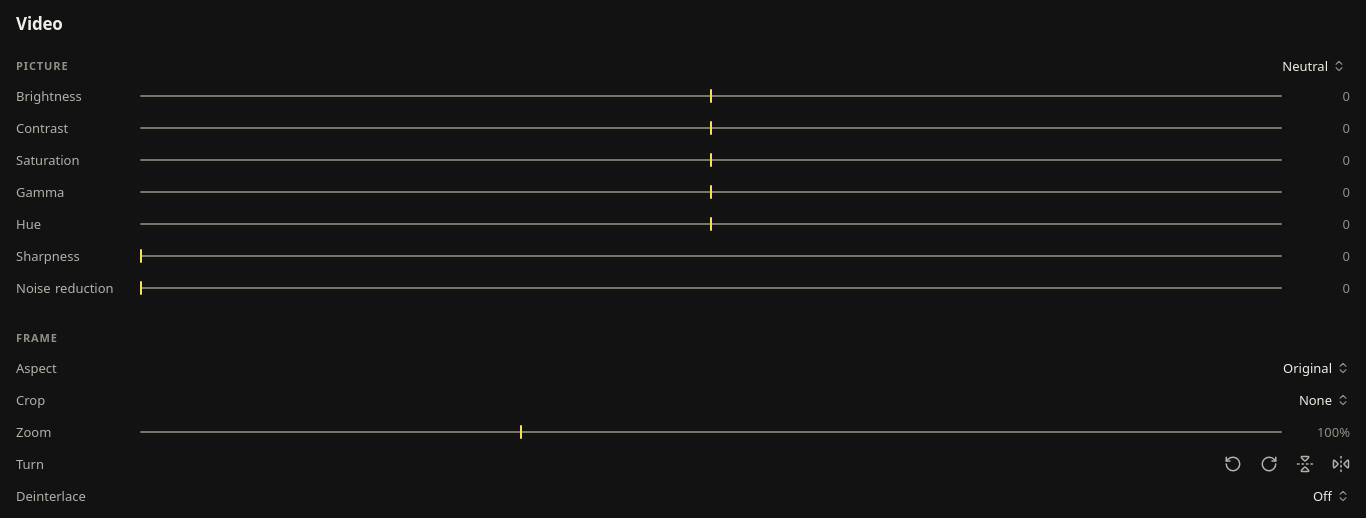
it: the Frame group › turns, mirrors and flips from its buttons
Later steps or results of the test are not shown.
Click the button named "Rotate clockwise" at x=1269, y=464, box top-left (1253, 448), bottom-right (1285, 480)
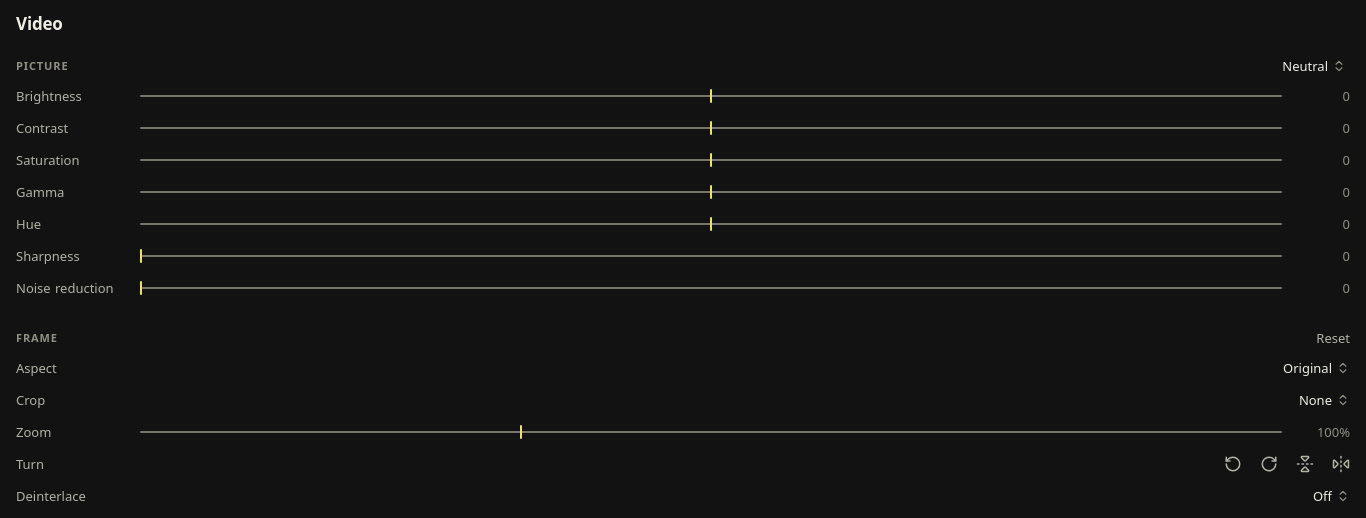
Click the button named "Rotate anticlockwise" at x=1233, y=464, box top-left (1217, 448), bottom-right (1249, 480)
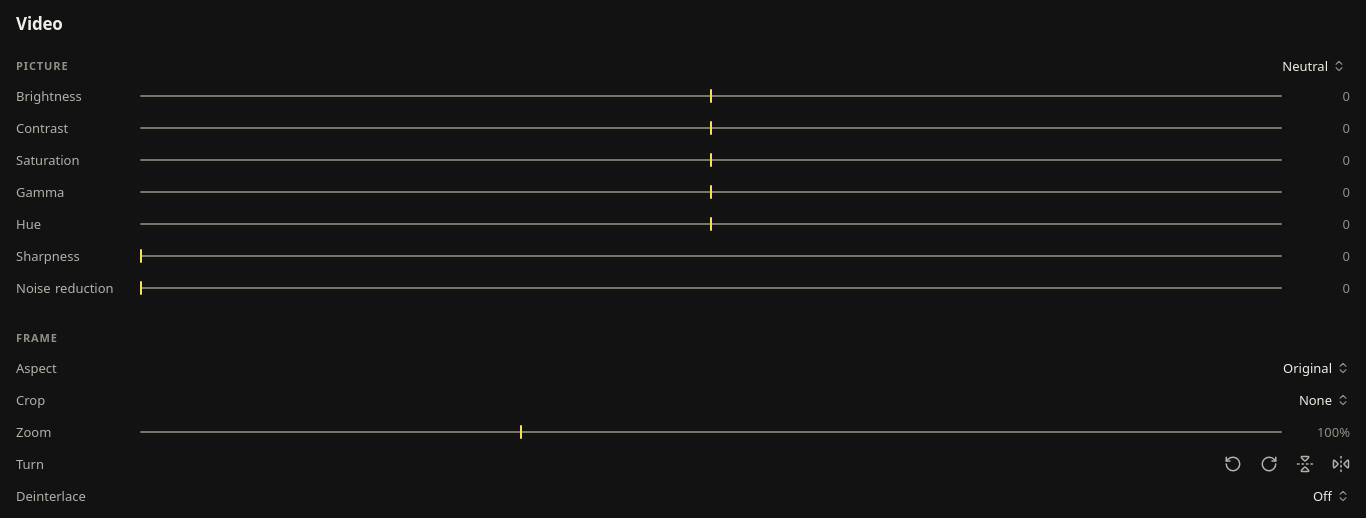
Click the button named "Rotate anticlockwise" at x=1233, y=464, box top-left (1217, 448), bottom-right (1249, 480)
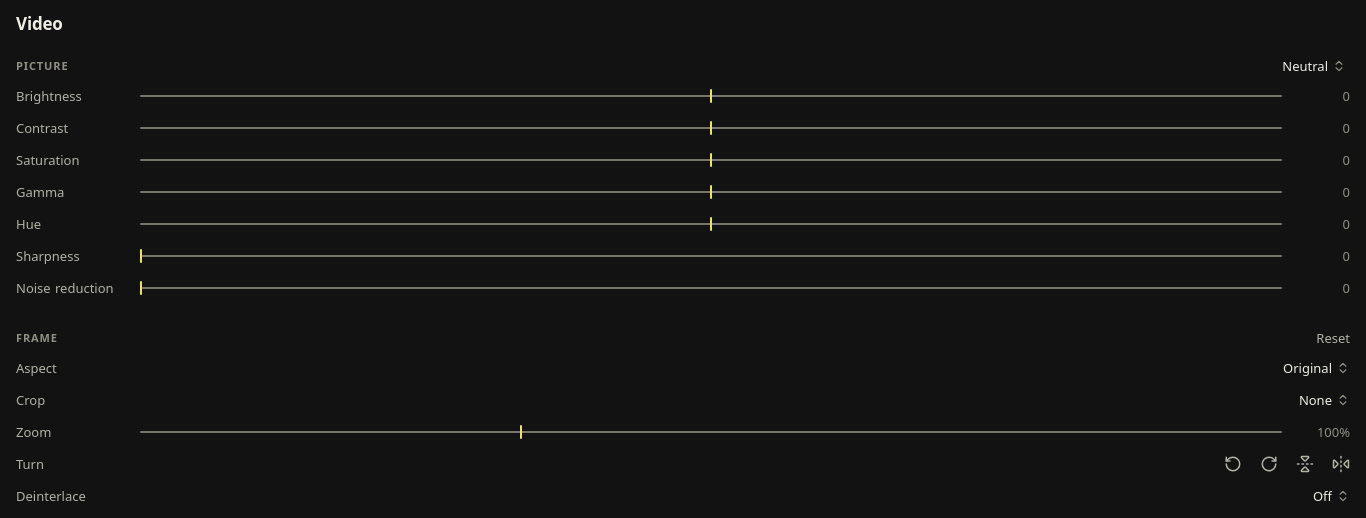
Click the button named "Mirror" at x=1305, y=464, box top-left (1289, 448), bottom-right (1321, 480)
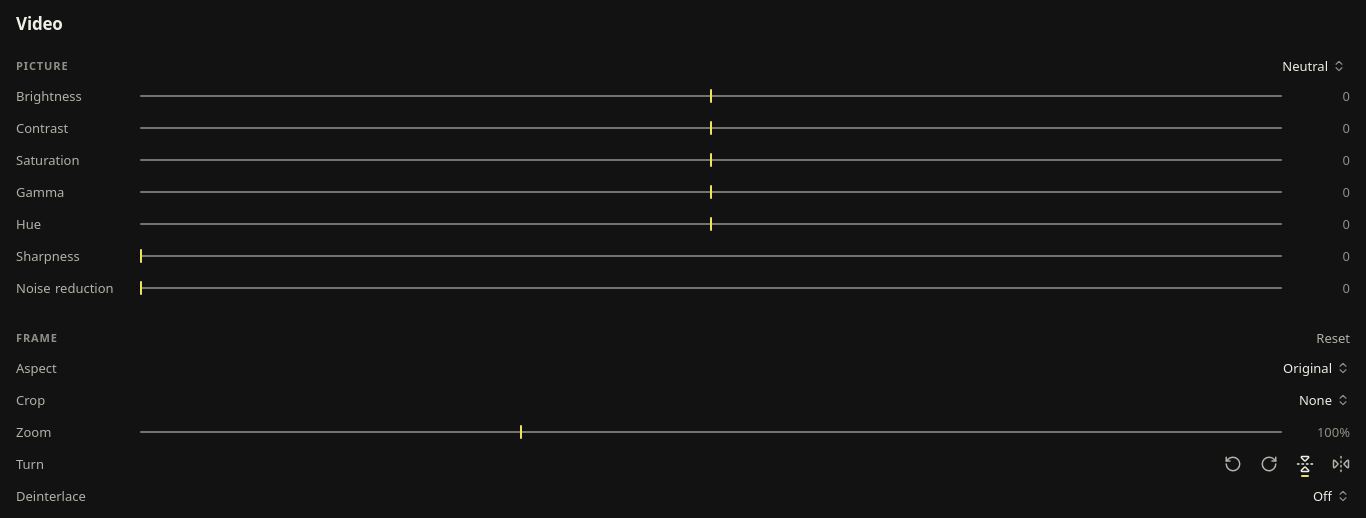
Now the button named "Mirror" is pressed, box top-left (1289, 448), bottom-right (1321, 480)
